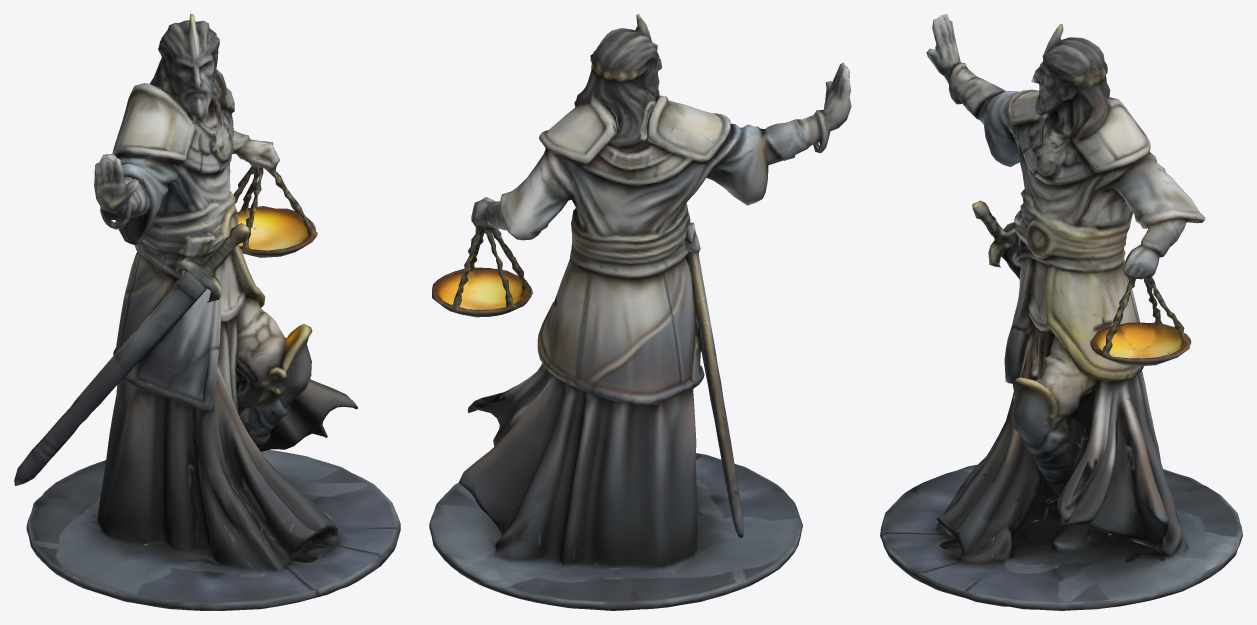
Rendered from Aroden Statue (2)_final.glb.
3 renders of one model, left to right at view 1: azimuth 30°, elevation 25°; view 2: azimuth 150°, elevation 25°; view 3: azimuth 270°, elevation 25°, orthographic. The views are drawn at different scales.
Visible parts, largest first — view 1: Mesh1.0; view 2: Mesh1.0; view 3: Mesh1.0.
Boxes of the visible parts, box(x1,y1,x2,y2) form: Mesh1.0: box(14, 14, 400, 610); Mesh1.0: box(429, 14, 851, 610); Mesh1.0: box(880, 14, 1242, 610).
Bounding box in the file's own units: 1.35 × 2 × 1.31.
1 material, 1 textured.
